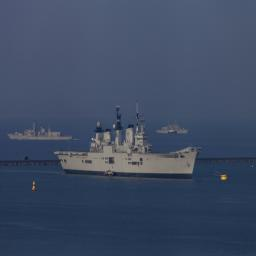Portanaves: (54, 100, 204, 181)
